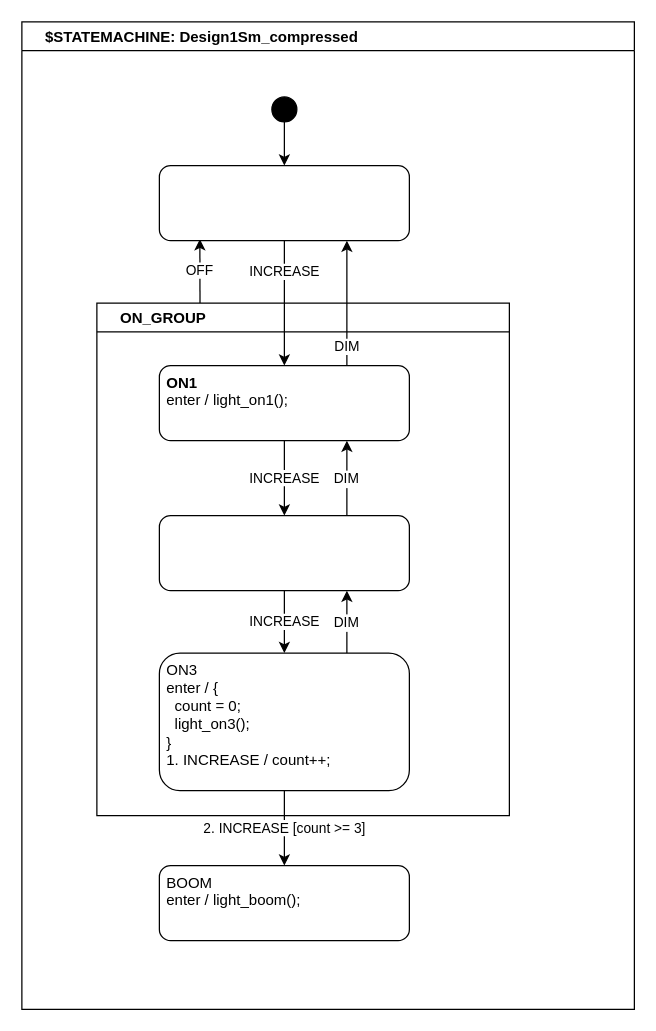
This 656x1031 diagram has some shape labels left out. The centre of each missing label's shape, as x and y in pixels:
"OFF enter / light_off();" goes at (283,202).
"ON2 enter / light_on2();" goes at (283,552).
